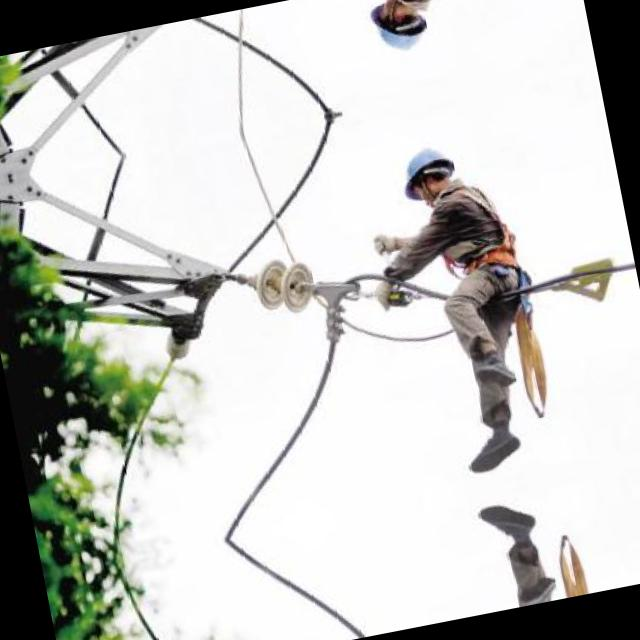helmet: (398, 142, 460, 208), (368, 0, 430, 57)
